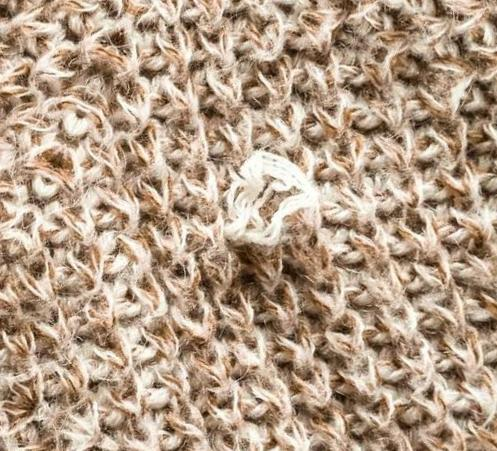snag: (209, 140, 326, 270)
